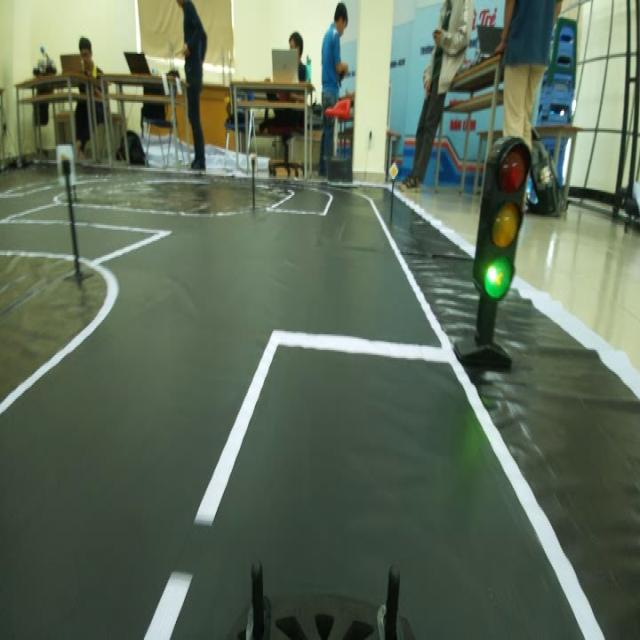trafficlight: (470, 120, 536, 325)
